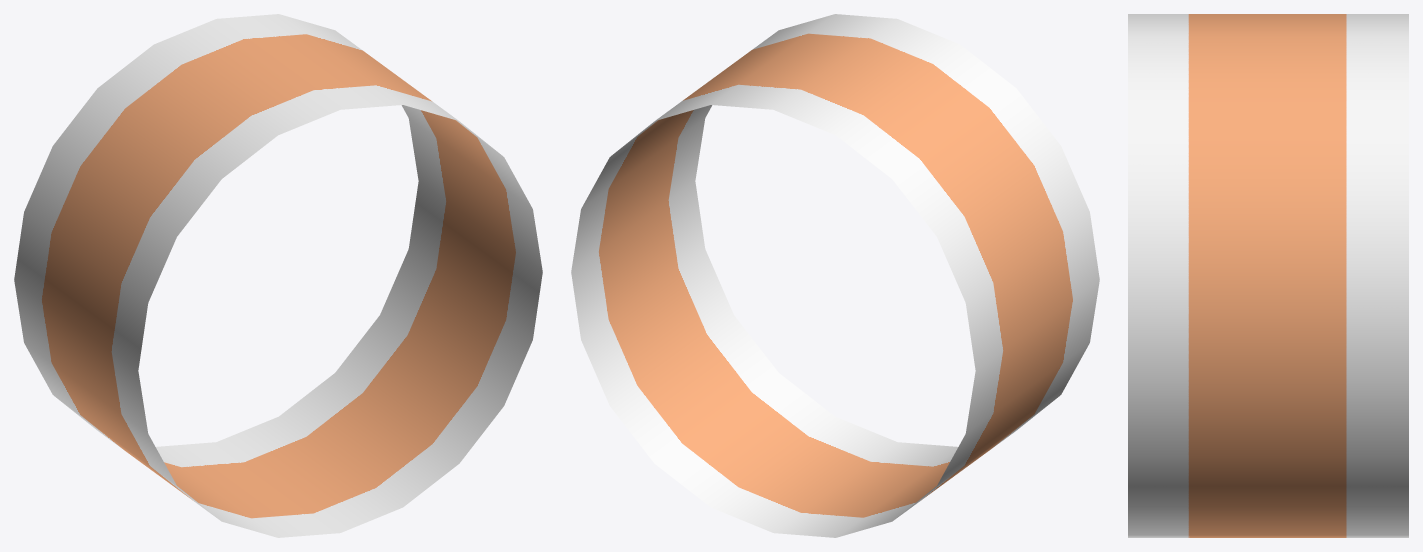
The model's file is Female_Mammoth_scream_ring.fbx.
The picture shows the model from 3 angles, left to right: view 1: azimuth 30°, elevation 25°; view 2: azimuth 150°, elevation 25°; view 3: azimuth 270°, elevation 25°; orthographic projection. The views are drawn at different scales.
Visible parts, largest first — view 1: Female_Mammoth_scream_ring; view 2: Female_Mammoth_scream_ring; view 3: Female_Mammoth_scream_ring.
Boxes of the visible parts, x1,y1,x2,y2 form: Female_Mammoth_scream_ring: (14,14,542,537); Female_Mammoth_scream_ring: (571,14,1099,537); Female_Mammoth_scream_ring: (1128,14,1408,537).
Bounding box in the file's own units: 0.2164 × 0.2164 × 0.1151.
